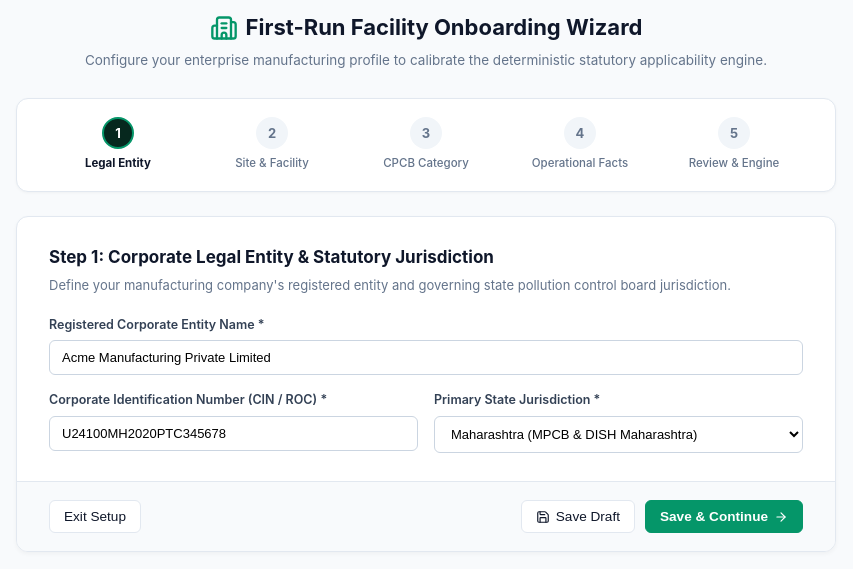
SetupWizardPage Component › navigates to step 2 when clicking Save & Continue
Click the button "Save & Continue". click: (724,516)
box: [645,500,803,533]
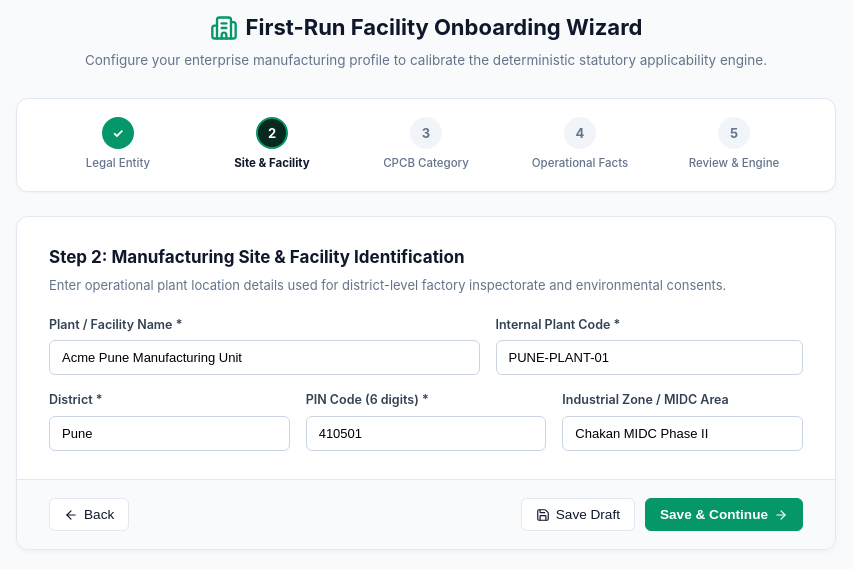
Check: the heading "Step 2: Manufacturing Site & Facility Identification" is shown, box [49,246,464,266]
